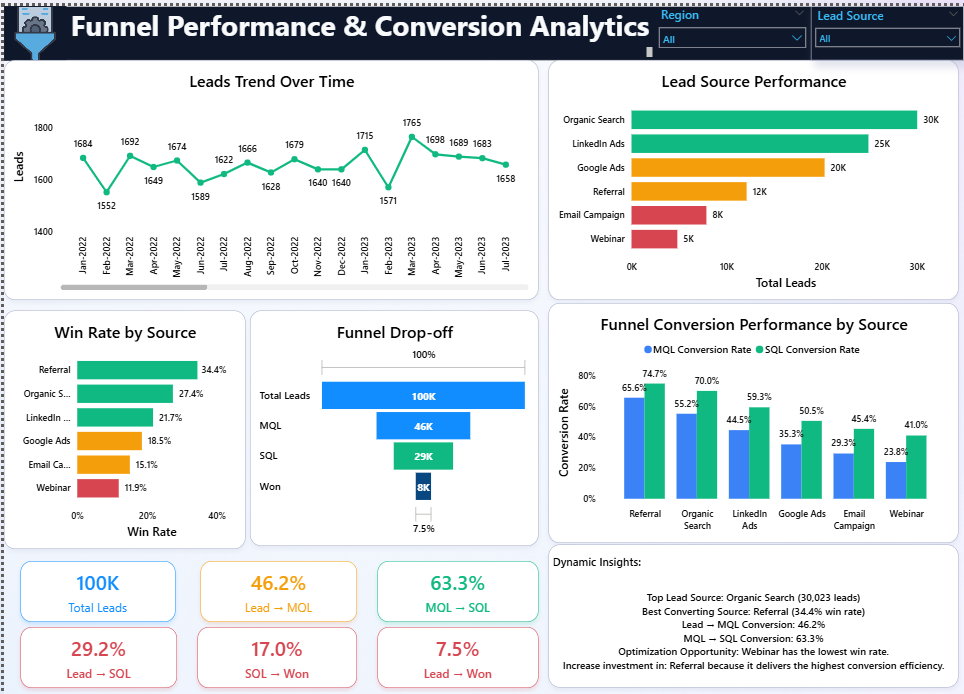

This screenshot's page, from the dashboard's own definition file:
{"tool":"powerbi","page":{"name":"Page 2","canvas":[1280,920],"ordinal":1},"visuals":[{"type":"shape","box":[0,0,1280,72.9],"z":0},{"type":"funnel","title":"Funnel Drop-off ","fields":{"Y":["Measures table.Total Leads","Measures table.MQL","Measures table.SQL","Measures table.Converted leads"]},"box":[328.1,405.1,384.8,313.9],"z":0,"group":"g1"},{"type":"textbox","title":"Funnel Performance & Conversion Analytics","box":[83,0,785.8,72.9],"z":1000},{"type":"actionButton","box":[0,0,83,72.9],"z":2000},{"type":"card","fields":{"Values":["Measures table.Total Leads"]},"box":[22.3,739.2,206.6,81],"z":3000},{"type":"card","fields":{"Values":["Measures table.Lead to MQL"]},"box":[261.3,739.2,208.6,81],"z":4000},{"type":"card","fields":{"Values":["Measures table.MQL to SQL"]},"box":[498.2,739.2,214.7,81],"z":5000},{"type":"card","fields":{"Values":["Measures table.Lead to SQL"]},"box":[22.3,828.4,208.6,81],"z":6000},{"type":"card","fields":{"Values":["Measures table.Conversion Rate"]},"box":[498.2,828.4,214.7,81],"z":7000},{"type":"clusteredBarChart","title":"Lead Source Performance","fields":{"Category":["fact_leads.lead_source"],"Y":["Measures table.Total Leads"]},"box":[725.1,72.9,546.8,320],"z":8000},{"type":"lineChart","title":"Leads Trend Over Time","fields":{"Y":["Measures table.Total Leads"],"Category":["Dim_Date.Year Month"]},"box":[0,72.9,712.9,320],"z":9000},{"type":"group","id":"g1","title":"Group 1","box":[328.1,405.1,384.8,313.9],"z":10000},{"type":"clusteredColumnChart","title":"Funnel Conversion Performance by Source","fields":{"Category":["fact_leads.lead_source"],"Y":["Measures table.MQL Conversion Rate","Measures table.SQL Conversion Rate"]},"box":[725.1,397,546.8,320],"z":11000},{"type":"card","fields":{"Values":["Measures table.Win Rate"]},"box":[257.2,828.4,212.7,81],"z":12000},{"type":"clusteredBarChart","title":"Win Rate by Source","fields":{"Category":["fact_leads.lead_source"],"Y":["Measures table.Lead to Won Rate"]},"box":[0,405.1,322,318],"z":13000},{"type":"card","title":"Dynamic Insights:","fields":{"Values":["Measures table.Dynamic Insights"]},"box":[725.1,719,546.8,190.4],"z":14000},{"type":"slicer","fields":{"Values":["fact_leads.region"]},"box":[868.9,0,206.6,72.9],"z":15000},{"type":"slicer","fields":{"Values":["fact_leads.lead_source"]},"box":[1075.4,0,204.6,72.9],"z":16000}]}

Visuals, with their boxes in screenshot pixels (x1, y1, x2, y2), scaled from the page's 1280x920 canvas onto the 964x694 screenshot:
shape: (left=0, top=0, right=963, bottom=55)
"Funnel Drop-off " funnel: (left=247, top=306, right=537, bottom=542)
"Funnel Performance & Conversion Analytics" textbox: (left=63, top=0, right=654, bottom=55)
actionButton: (left=0, top=0, right=63, bottom=55)
card - Measures table.Total Leads: (left=17, top=558, right=172, bottom=619)
card - Measures table.Lead to MQL: (left=197, top=558, right=354, bottom=619)
card - Measures table.MQL to SQL: (left=375, top=558, right=537, bottom=619)
card - Measures table.Lead to SQL: (left=17, top=625, right=174, bottom=686)
card - Measures table.Conversion Rate: (left=375, top=625, right=537, bottom=686)
"Lead Source Performance" clusteredBarChart: (left=546, top=55, right=958, bottom=296)
"Leads Trend Over Time" lineChart: (left=0, top=55, right=537, bottom=296)
"Group 1" group: (left=247, top=306, right=537, bottom=542)
"Funnel Conversion Performance by Source" clusteredColumnChart: (left=546, top=299, right=958, bottom=541)
card - Measures table.Win Rate: (left=194, top=625, right=354, bottom=686)
"Win Rate by Source" clusteredBarChart: (left=0, top=306, right=243, bottom=545)
"Dynamic Insights:" card: (left=546, top=542, right=958, bottom=686)
slicer - fact_leads.region: (left=654, top=0, right=810, bottom=55)
slicer - fact_leads.lead_source: (left=810, top=0, right=963, bottom=55)
